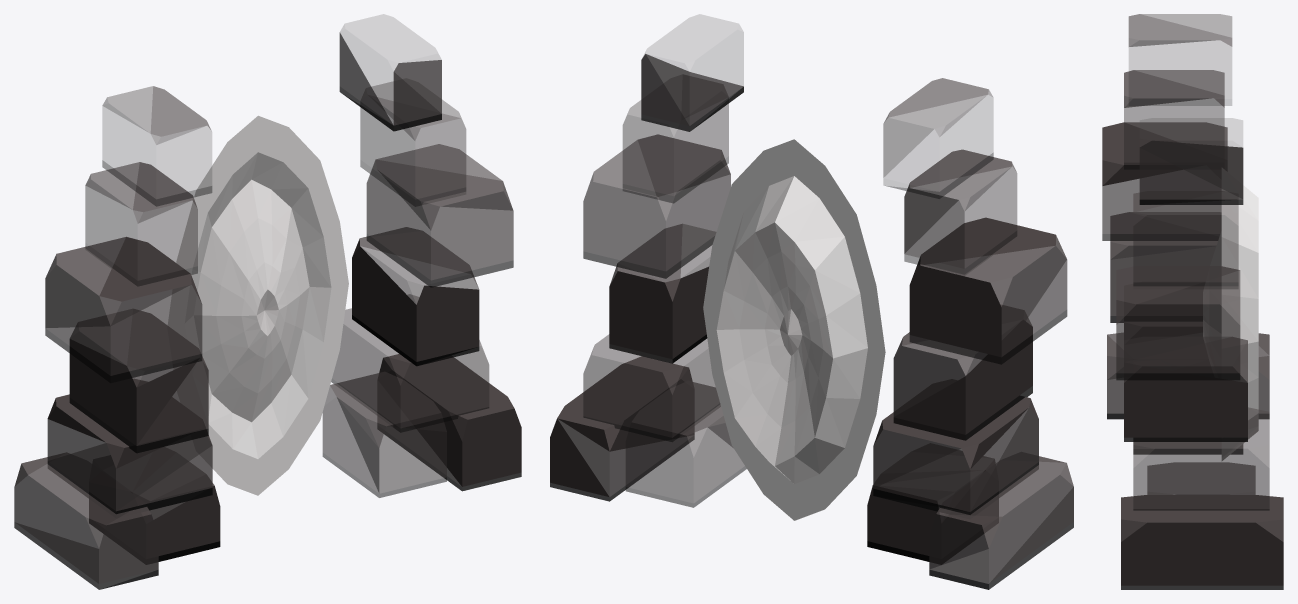
Rendered from clan-wars.gltf.
3 renders of one model, left to right at view 1: azimuth 30°, elevation 25°; view 2: azimuth 150°, elevation 25°; view 3: azimuth 270°, elevation 25°, orthographic. The views are drawn at different scales.
Bounding box in the file's own units: 308 × 301 × 117.
Materials: 2 (2 with a texture image).
